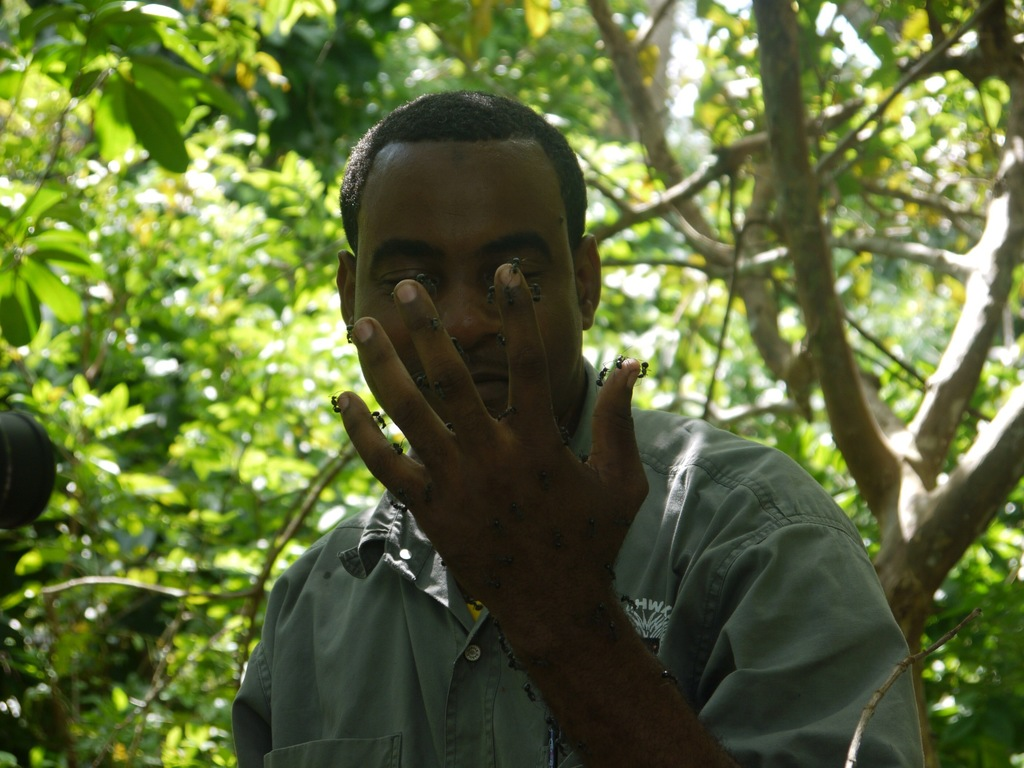Human_hand: (353, 294, 649, 616)
